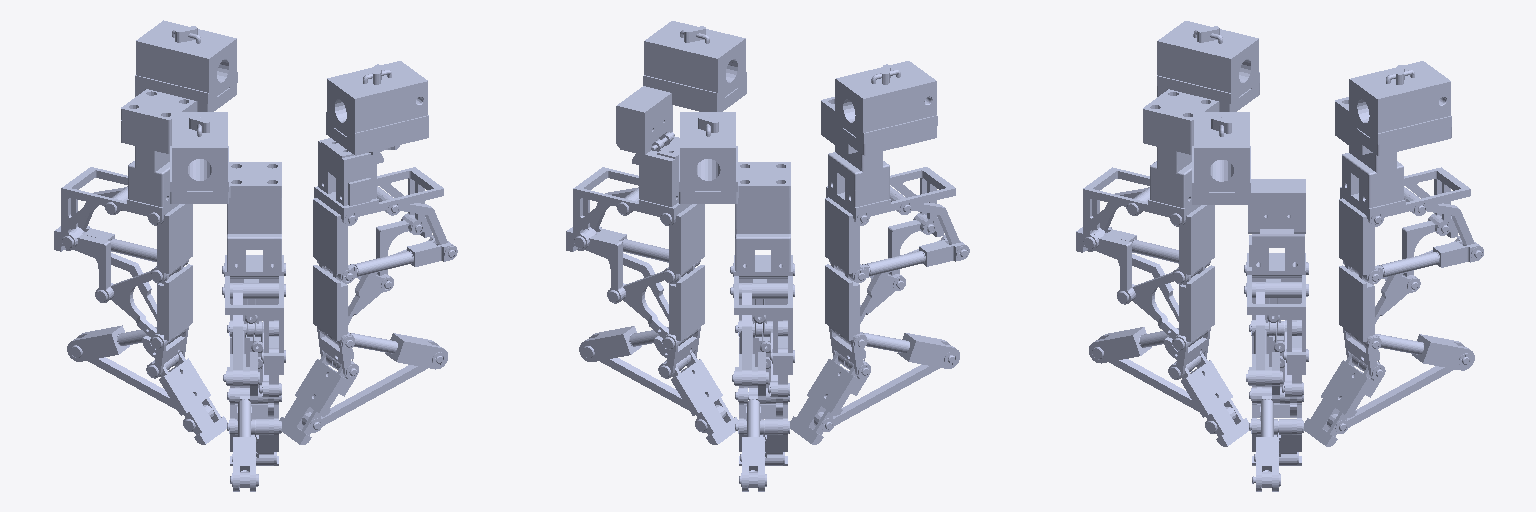
URDF robot description (hanyang_gripper_description):
<?xml version="1.0" encoding="utf-8"?>
<!-- This URDF was automatically created by SolidWorks to URDF Exporter! Originally created by [author] ([email redacted]) 
     Commit Version: 1.6.0-4-g7f85cfe  Build Version: 1.6.7995.38578
     For more information, please see http://wiki.ros.org/sw_urdf_exporter -->
<robot
  name="hanyang_gripper_description">
  <link
    name="hanyang_base_link">
    <inertial>
      <origin
        xyz="0.0032794 0.0036243 -0.085843"
        rpy="0 0 0" />
      <mass
        value="1.1991" />
      <inertia
        ixx="0.0032705"
        ixy="-8.8997E-06"
        ixz="5.8891E-09"
        iyy="0.0032572"
        iyz="-1.1733E-07"
        izz="0.0061866" />
    </inertial>
    <visual>
      <origin
        xyz="0 0 0"
        rpy="0 0 0" />
      <geometry>
        <mesh
          filename="package://hanyang_gripper/meshes/base_link.STL" />
      </geometry>
      <material
        name="">
        <color
          rgba="0.79216 0.81961 0.93333 1" />
      </material>
    </visual>
    <collision>
      <origin
        xyz="0 0 0"
        rpy="0 0 0" />
      <geometry>
        <mesh
          filename="package://hanyang_gripper/meshes/base_link.STL" />
      </geometry>
    </collision>
  </link>
  <link
    name="finger_hinge_1_link">
    <inertial>
      <origin
        xyz="0.065641 -0.0079398 -0.0097225"
        rpy="0 0 0" />
      <mass
        value="0.075006" />
      <inertia
        ixx="2.2862E-05"
        ixy="-4.1935E-06"
        ixz="-1.113E-06"
        iyy="2.0983E-05"
        iyz="-2.3625E-06"
        izz="3.2464E-05" />
    </inertial>
    <visual>
      <origin
        xyz="0 0 0"
        rpy="0 0 0" />
      <geometry>
        <mesh
          filename="package://hanyang_gripper/meshes/finger_hinge_1_link.STL" />
      </geometry>
      <material
        name="">
        <color
          rgba="0.79216 0.81961 0.93333 1" />
      </material>
    </visual>
  </link>
  <joint
    name="finger_hinge_1_joint"
    type="prismatic">
    <origin
      xyz="0.13675 -0.0335 -0.115"
      rpy="0 0 -3.1416" />
    <parent
      link="hanyang_base_link" />
    <child
      link="finger_hinge_1_link" />
    <axis
      xyz="-1 0 0" />
    <limit
      lower="0"
      upper="0.129"
      effort="10"
      velocity="10" />
  </joint>
  <link
    name="finger_hinge_2_link">
    <inertial>
      <origin
        xyz="-0.0028372 -2.095E-05 0.057266"
        rpy="0 0 0" />
      <mass
        value="0.067705" />
      <inertia
        ixx="1.3529E-05"
        ixy="1.1024E-06"
        ixz="-2.9156E-06"
        iyy="2.022E-05"
        iyz="7.2143E-07"
        izz="1.741E-05" />
    </inertial>
    <visual>
      <origin
        xyz="0 0 0"
        rpy="0 0 0" />
      <geometry>
        <mesh
          filename="package://hanyang_gripper/meshes/finger_hinge_2_link.STL" />
      </geometry>
      <material
        name="">
        <color
          rgba="0.79216 0.81961 0.93333 1" />
      </material>
    </visual>
  </link>
  <joint
    name="finger_hinge_2_joint"
    type="revolute">
    <origin
      xyz="0.060883 -0.034 -0.0408"
      rpy="-3.1416 0 -3.1416" />
    <parent
      link="finger_hinge_1_link" />
    <child
      link="finger_hinge_2_link" />
    <axis
      xyz="0 1 0" />
    <limit
      lower="-1.570796"
      upper="0"
      effort="10"
      velocity="10" />
  </joint>
  <link
    name="finger_hinge_3_link">
    <inertial>
      <origin
        xyz="0.005275 0.0017219 0.027803"
        rpy="0 0 0" />
      <mass
        value="0.024551" />
      <inertia
        ixx="2.8212E-06"
        ixy="4.4824E-09"
        ixz="1.3164E-06"
        iyy="5.5805E-06"
        iyz="-2.68E-08"
        izz="5.0262E-06" />
    </inertial>
    <visual>
      <origin
        xyz="0 0 0"
        rpy="0 0 0" />
      <geometry>
        <mesh
          filename="package://hanyang_gripper/meshes/finger_hinge_3_link.STL" />
      </geometry>
      <material
        name="">
        <color
          rgba="0.79216 0.81961 0.93333 1" />
      </material>
    </visual>
  </link>
  <joint
    name="finger_hinge_3_joint"
    type="revolute">
    <origin
      xyz="-0.013 0.00125 0.1269"
      rpy="0 0 0" />
    <parent
      link="finger_hinge_2_link" />
    <child
      link="finger_hinge_3_link" />
    <axis
      xyz="0 -1 0" />
    <limit
      lower="-0.13963"
      upper="0.349065777777778"
      effort="10"
      velocity="10" />
  </joint>
  <link
    name="finger_1_1_link">
    <inertial>
      <origin
        xyz="0.065932 -0.02114 -0.050052"
        rpy="0 0 0" />
      <mass
        value="0.15457" />
      <inertia
        ixx="3.8904E-05"
        ixy="-1.1423E-06"
        ixz="-2.8992E-06"
        iyy="4.546E-05"
        iyz="-7.4443E-07"
        izz="4.8395E-05" />
    </inertial>
    <visual>
      <origin
        xyz="0 0 0"
        rpy="0 0 0" />
      <geometry>
        <mesh
          filename="package://hanyang_gripper/meshes/finger_1_1_link.STL" />
      </geometry>
      <material
        name="">
        <color
          rgba="0.79216 0.81961 0.93333 1" />
      </material>
    </visual>
  </link>
  <joint
    name="finger_1_1_joint"
    type="prismatic">
    <origin
      xyz="-0.097387 -0.10168 -0.115"
      rpy="0 0 1.0472" />
    <parent
      link="hanyang_base_link" />
    <child
      link="finger_1_1_link" />
    <axis
      xyz="-1 0 0" />
    <limit
      lower="0"
      upper="0.129"
      effort="10"
      velocity="10" />
  </joint>
  <link
    name="finger_1_2_link">
    <inertial>
      <origin
        xyz="-0.010542 0.0017219 -0.027803"
        rpy="0 0 0" />
      <mass
        value="0.024551" />
      <inertia
        ixx="2.8212E-06"
        ixy="-4.4826E-09"
        ixz="1.3164E-06"
        iyy="5.5805E-06"
        iyz="2.6801E-08"
        izz="5.0262E-06" />
    </inertial>
    <visual>
      <origin
        xyz="0 0 0"
        rpy="0 0 0" />
      <geometry>
        <mesh
          filename="package://hanyang_gripper/meshes/finger_1_2_link.STL" />
      </geometry>
      <material
        name="">
        <color
          rgba="0.79216 0.81961 0.93333 1" />
      </material>
    </visual>
  </link>
  <joint
    name="finger_1_2_joint"
    type="revolute">
    <origin
      xyz="0.07675 -0.03275 -0.168"
      rpy="0 0 0" />
    <parent
      link="finger_1_1_link" />
    <child
      link="finger_1_2_link" />
    <axis
      xyz="0 -1 0" />
    <limit
      lower="-0.13963"
      upper="0.349065777777778"
      effort="10"
      velocity="10" />
  </joint>
  <link
    name="finger_2_1_link">
    <inertial>
      <origin
        xyz="0.065932 -0.02114 -0.050052"
        rpy="0 0 0" />
      <mass
        value="0.15457" />
      <inertia
        ixx="3.8904E-05"
        ixy="-1.1423E-06"
        ixz="-2.8992E-06"
        iyy="4.546E-05"
        iyz="-7.4443E-07"
        izz="4.8395E-05" />
    </inertial>
    <visual>
      <origin
        xyz="0 0 0"
        rpy="0 0 0" />
      <geometry>
        <mesh
          filename="package://hanyang_gripper/meshes/finger_2_1_link.STL" />
      </geometry>
      <material
        name="">
        <color
          rgba="0.79216 0.81961 0.93333 1" />
      </material>
    </visual>
  </link>
  <joint
    name="finger_2_1_joint"
    type="prismatic">
    <origin
      xyz="-0.039363 0.13518 -0.115"
      rpy="0 0 -1.0472" />
    <parent
      link="hanyang_base_link" />
    <child
      link="finger_2_1_link" />
    <axis
      xyz="-1 0 0" />
    <limit
      lower="0"
      upper="0.129"
      effort="10"
      velocity="10" />
  </joint>
  <link
    name="finger_2_2_link">
    <inertial>
      <origin
        xyz="-0.010542 0.0017219 -0.027803"
        rpy="0 0 0" />
      <mass
        value="0.024551" />
      <inertia
        ixx="2.8212E-06"
        ixy="-4.4824E-09"
        ixz="1.3164E-06"
        iyy="5.5805E-06"
        iyz="2.68E-08"
        izz="5.0262E-06" />
    </inertial>
    <visual>
      <origin
        xyz="0 0 0"
        rpy="0 0 0" />
      <geometry>
        <mesh
          filename="package://hanyang_gripper/meshes/finger_2_2_link.STL" />
      </geometry>
      <material
        name="">
        <color
          rgba="0.79216 0.81961 0.93333 1" />
      </material>
    </visual>
  </link>
  <joint
    name="finger_2_2_joint"
    type="revolute">
    <origin
      xyz="0.07675 -0.03275 -0.168"
      rpy="0 0 0" />
    <parent
      link="finger_2_1_link" />
    <child
      link="finger_2_2_link" />
    <axis
      xyz="0 -1 0" />
    <limit
      lower="-0.13963"
      upper="0.349065777777778"
      effort="10"
      velocity="10" />
  </joint>
</robot>

--- Facts derived from the render (not from the file) ---
Views: 3 orthographic renders of the robot side by side, from view 1: azimuth 30°, elevation 25°; view 2: azimuth 150°, elevation 25°; view 3: azimuth 270°, elevation 25°.
Model hanyang_gripper_description with 8 links and 7 joints (4 revolute, 3 prismatic), rooted at hanyang_base_link, posed every joint at zero.
Links seen in each view (by area): view 1: finger_2_1_link, finger_1_1_link, finger_hinge_2_link, finger_hinge_1_link, finger_hinge_3_link, finger_2_2_link, finger_1_2_link; view 2: finger_1_1_link, finger_2_1_link, finger_hinge_2_link, finger_hinge_1_link, finger_1_2_link, finger_hinge_3_link, finger_2_2_link; view 3: finger_1_1_link, finger_2_1_link, finger_hinge_2_link, finger_hinge_1_link, finger_2_2_link, finger_1_2_link, finger_hinge_3_link.
Boxes of the visible links, x1,y1,x2,y2 form: finger_2_1_link: [54, 20, 237, 344]; finger_1_1_link: [170, 112, 285, 403]; finger_hinge_2_link: [313, 138, 457, 345]; finger_hinge_1_link: [326, 61, 428, 155]; finger_hinge_3_link: [279, 327, 447, 444]; finger_2_2_link: [67, 325, 227, 444]; finger_1_2_link: [227, 388, 281, 491]; finger_1_1_link: [821, 61, 969, 344]; finger_2_1_link: [679, 112, 794, 403]; finger_hinge_2_link: [566, 132, 704, 345]; finger_hinge_1_link: [616, 21, 746, 155]; finger_1_2_link: [790, 327, 959, 444]; finger_hinge_3_link: [579, 326, 737, 444]; finger_2_2_link: [735, 388, 789, 491]; finger_1_1_link: [1076, 21, 1259, 346]; finger_2_1_link: [1335, 61, 1483, 346]; finger_hinge_2_link: [1244, 229, 1308, 403]; finger_hinge_1_link: [1192, 112, 1305, 233]; finger_2_2_link: [1304, 328, 1474, 446]; finger_1_2_link: [1089, 327, 1248, 446]; finger_hinge_3_link: [1249, 387, 1303, 491].
Size in the robot's own frame: 0.225 by 0.2487 by 0.2517 metres.
Meshes: 8 distinct files referenced, 7 mesh visuals loaded (7 binary STL); not drawn: 1 (reference not matched to a file when rendering).